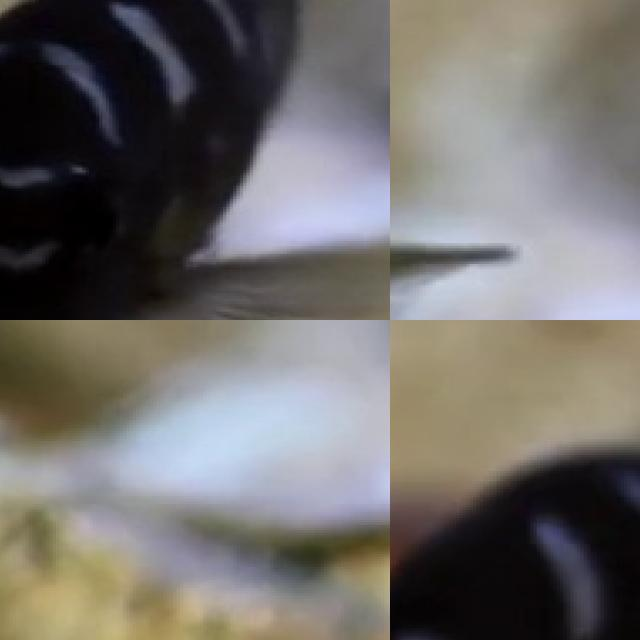fish: (0, 0, 390, 320), (390, 0, 516, 320)
